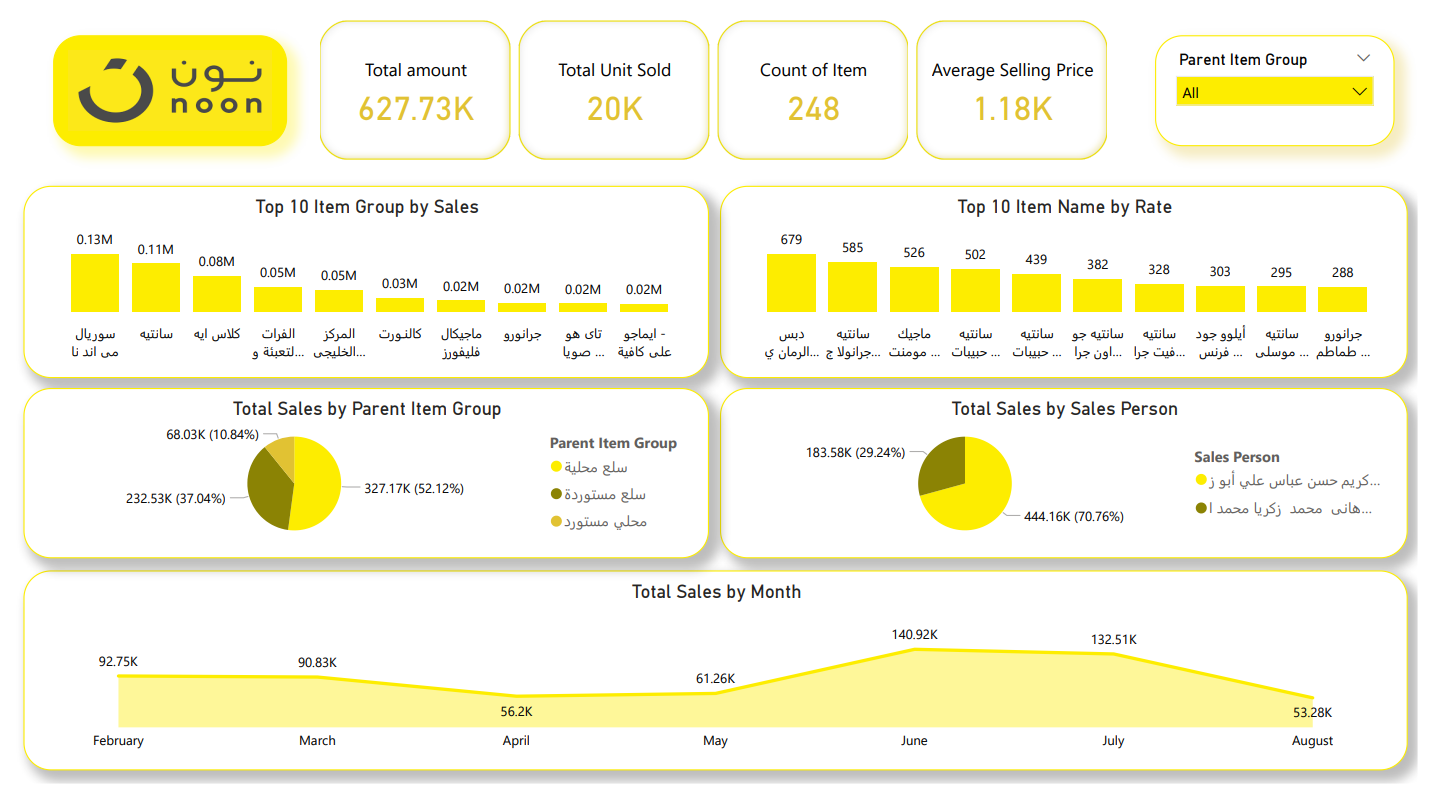

This screenshot's page, from the dashboard's own definition file:
{"tool":"powerbi","page":{"name":"Page 1","canvas":[1280,720],"ordinal":0},"visuals":[{"type":"cardVisual","fields":{"Data":["Query Report.Total amount","Query Report.Total Unit Sold","Count(Query Report.Item)","Query Report.Average Selling Price"]},"box":[276.2,21.2,728.8,136.2],"z":0},{"type":"columnChart","title":"Top 10 Item Name by Rate","fields":{"Category":["Query Report.Item Name"],"Y":["Sum(Query Report.Rate)"]},"box":[645,176.2,626.2,175],"z":1000},{"type":"pieChart","title":"Total Sales by Sales Person","fields":{"Y":["Sum(Query Report.Amount)"],"Category":["Query Report.Sales Person"]},"box":[645,360,626.2,155],"z":2000},{"type":"columnChart","title":"Top 10 Item Group by Sales","fields":{"Category":["Query Report.Item Group"],"Y":["Sum(Query Report.Amount)"]},"box":[11.2,176.2,623.8,175],"z":3000},{"type":"lineChart","title":"Total Sales by Month","fields":{"Y":["Sum(Query Report.Amount)"],"Category":["Query Report.Date.Variation.Date Hierarchy.Month"]},"box":[11.2,526.2,1260,181.2],"z":4000},{"type":"pieChart","title":"Total Sales by Parent Item Group","fields":{"Category":["Query Report.Parent Item Group"],"Y":["Sum(Query Report.Amount)"]},"box":[11.2,360,623.8,155],"z":5000},{"type":"slicer","fields":{"Values":["Query Report.Parent Item Group"]},"box":[1041.2,38.8,217.5,101.2],"z":6000},{"type":"image","box":[37.5,38.8,213.8,101.2],"z":7000}]}

Visuals, with their boxes in screenshot pixels (x1, y1, x2, y2), scaled from the page's 1280x720 canvas onto the 1435x790 screenshot:
cardVisual - Query Report.Total amount x Query Report.Total Unit Sold: bbox(310, 23, 1127, 173)
"Top 10 Item Name by Rate" columnChart: bbox(723, 193, 1425, 385)
"Total Sales by Sales Person" pieChart: bbox(723, 395, 1425, 565)
"Top 10 Item Group by Sales" columnChart: bbox(13, 193, 712, 385)
"Total Sales by Month" lineChart: bbox(13, 577, 1425, 776)
"Total Sales by Parent Item Group" pieChart: bbox(13, 395, 712, 565)
slicer - Query Report.Parent Item Group: bbox(1167, 43, 1411, 154)
image: bbox(42, 43, 282, 154)
